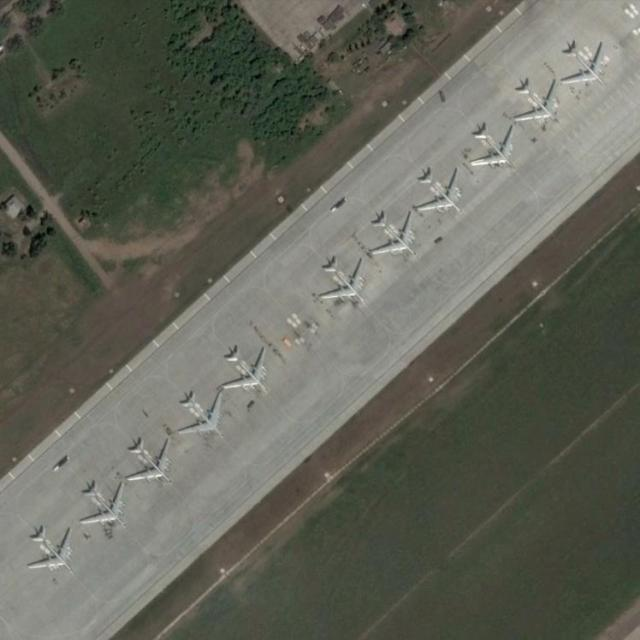fighter jet: (18, 515, 70, 582), (313, 261, 372, 320), (552, 30, 614, 86), (504, 72, 556, 132), (128, 431, 174, 496), (79, 475, 123, 542), (367, 207, 416, 267), (415, 162, 464, 220), (217, 340, 266, 395), (462, 118, 511, 172), (177, 390, 220, 446)
